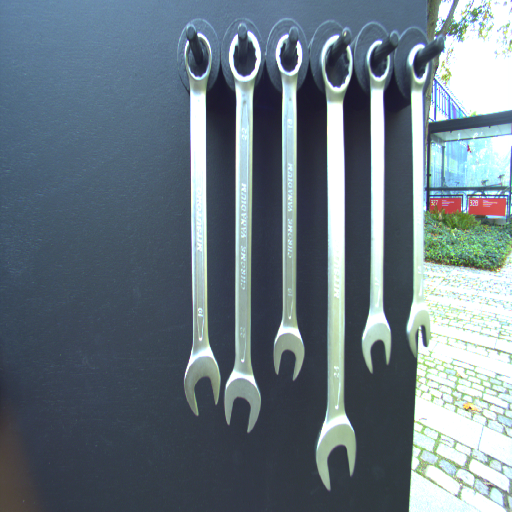bottom: (312, 411, 357, 492), (182, 346, 220, 414), (224, 371, 262, 435), (271, 322, 307, 385), (359, 312, 393, 371), (404, 301, 432, 356)
top: (319, 31, 354, 98), (227, 27, 262, 87), (180, 29, 215, 85), (274, 32, 305, 84), (363, 38, 393, 89), (404, 43, 434, 89)
